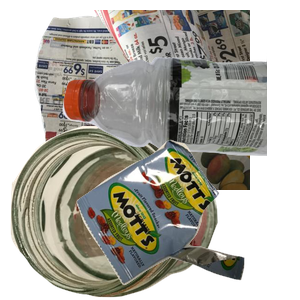glass: (10, 126, 220, 300)
paper: (32, 10, 272, 190)
plastic: (60, 53, 300, 201)
trash: (74, 137, 300, 300)
